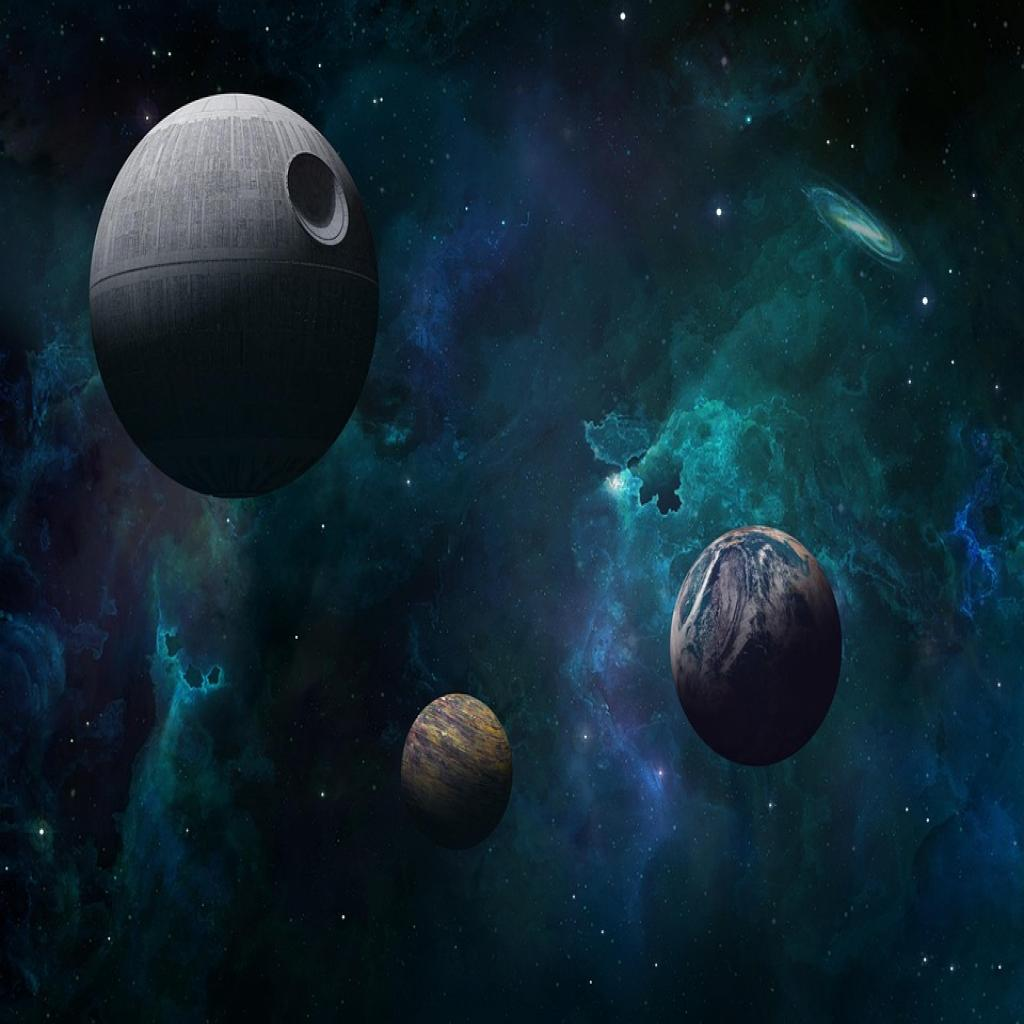Death-star: (86, 94, 382, 502)
